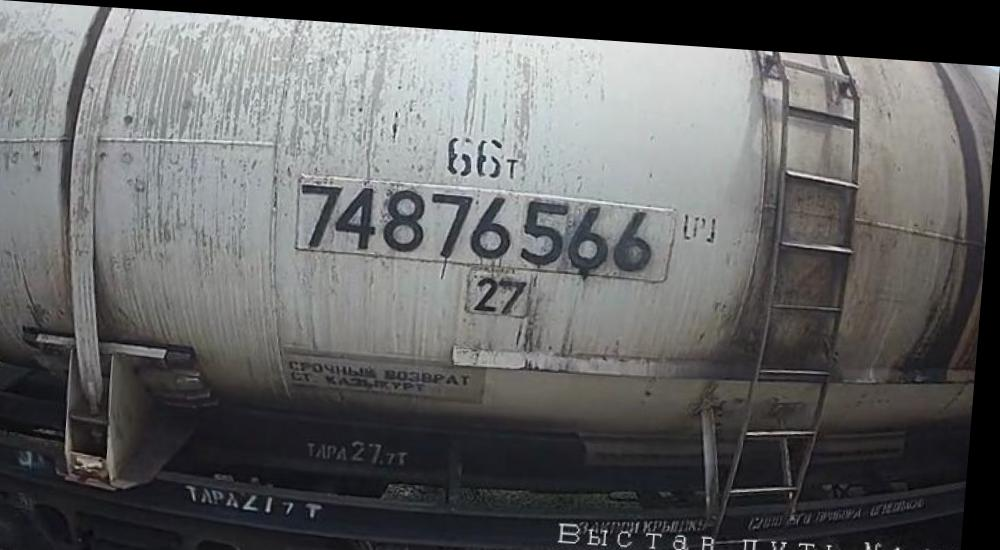Wagon-number: (295, 170, 665, 267)
